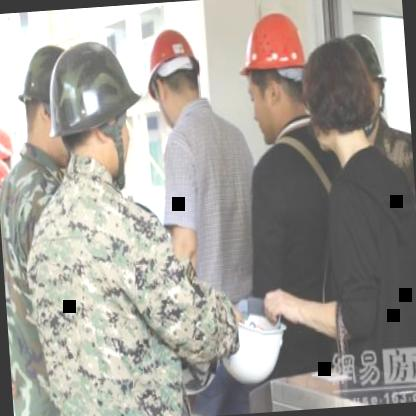head: (298, 37, 382, 166)
helmet: (42, 34, 145, 184), (235, 3, 313, 148), (14, 44, 74, 172), (142, 23, 204, 132), (0, 149, 16, 217), (0, 117, 17, 176)
